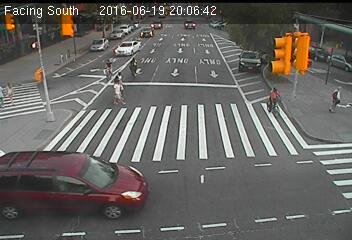neg: (264, 83, 289, 117), (315, 36, 336, 64), (231, 46, 252, 73), (282, 49, 302, 76), (97, 56, 115, 80), (146, 26, 162, 46)
pos: (327, 82, 350, 113), (108, 79, 127, 104), (1, 80, 18, 104)
